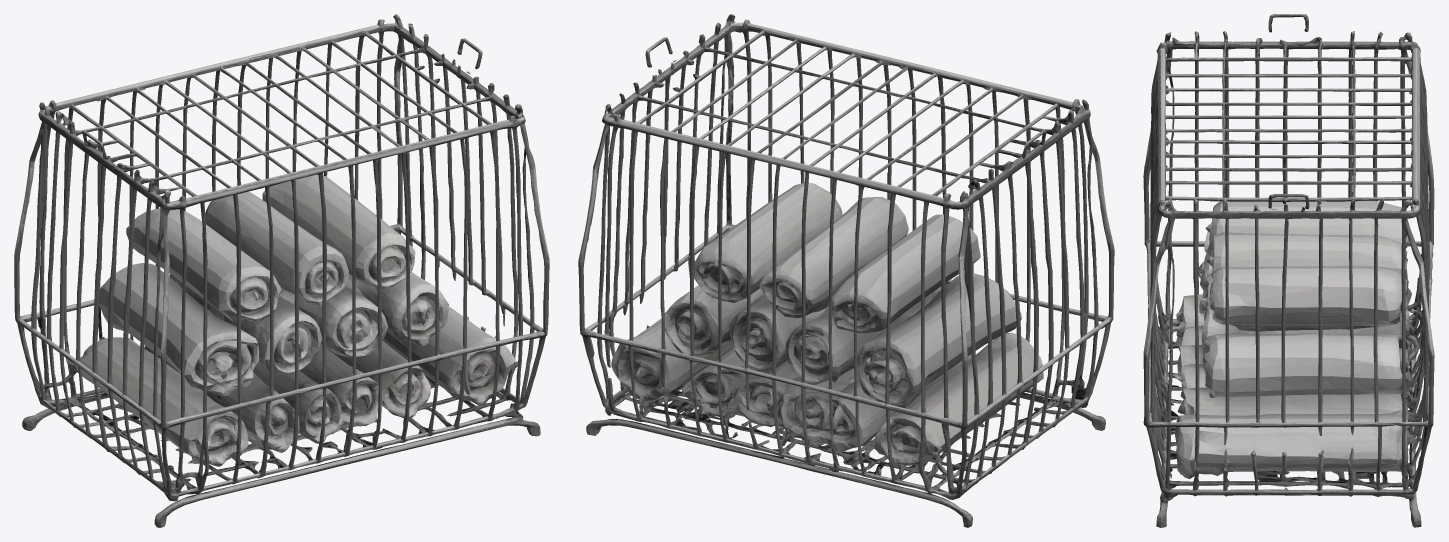
The model's file is 7d8802ca-6f68-4557-9dba-d0bdced532ef.glb.
3 renders of one model, left to right at view 1: azimuth 30°, elevation 25°; view 2: azimuth 150°, elevation 25°; view 3: azimuth 270°, elevation 25°, orthographic. The views are drawn at different scales.
Visible parts, largest first — view 1: world; view 2: world; view 3: world.
Part boxes in pixels (x1=…): world: x1=14, y1=14, x2=549, y2=527; world: x1=578, y1=14, x2=1114, y2=527; world: x1=1143, y1=14, x2=1434, y2=527.
Size of the model in its own units: 0.9966 by 0.8379 by 0.6643.
Materials: 1 (1 with a texture image).
